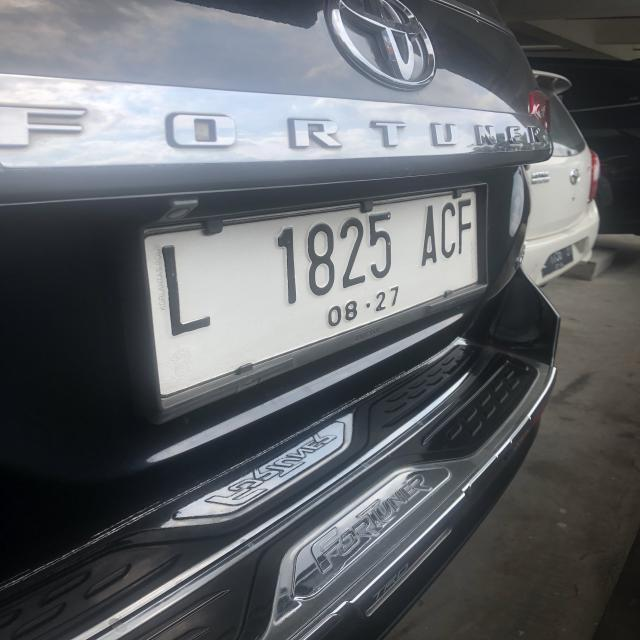1: (269, 228, 303, 306)
2: (336, 215, 368, 285)
5: (366, 210, 400, 278)
8: (306, 225, 340, 293)
A: (417, 204, 442, 267)
C: (439, 204, 459, 260)
F: (454, 196, 474, 259)
L: (156, 241, 218, 334)
